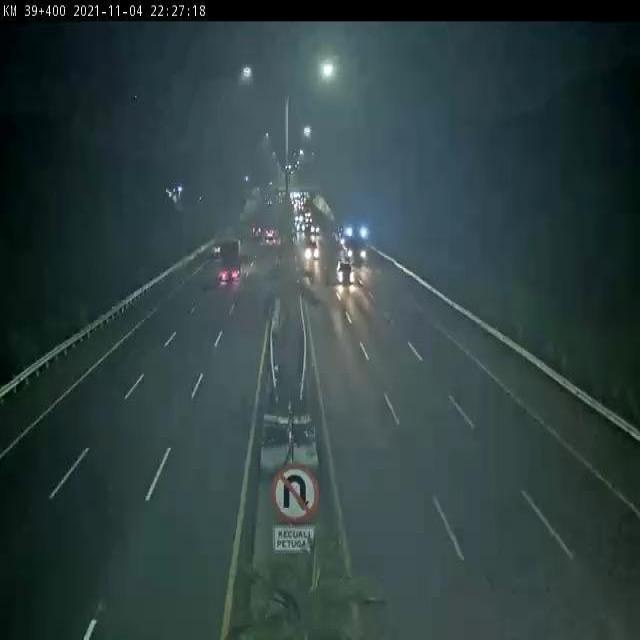car: (336, 260, 355, 285)
truck-m-: (216, 239, 241, 284)
